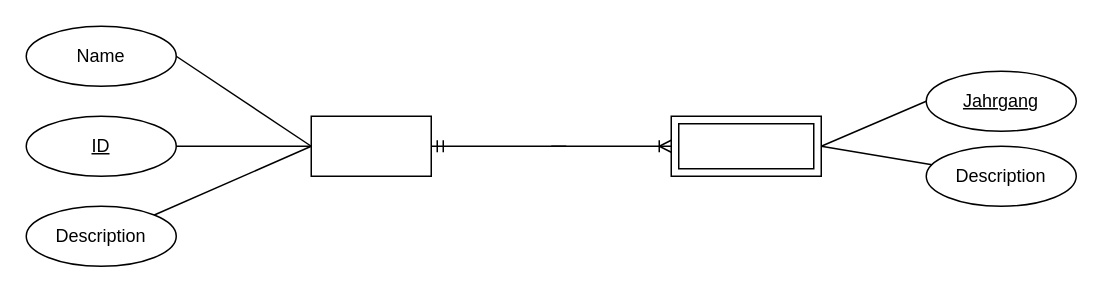
Image size: 1103x293. Some labels were removed from this diagram. The box of each missing label's shape, as (x1, y1, x2, y2) in pixels:
Competitions: (310, 115, 431, 176)
Year: (670, 115, 821, 176)
